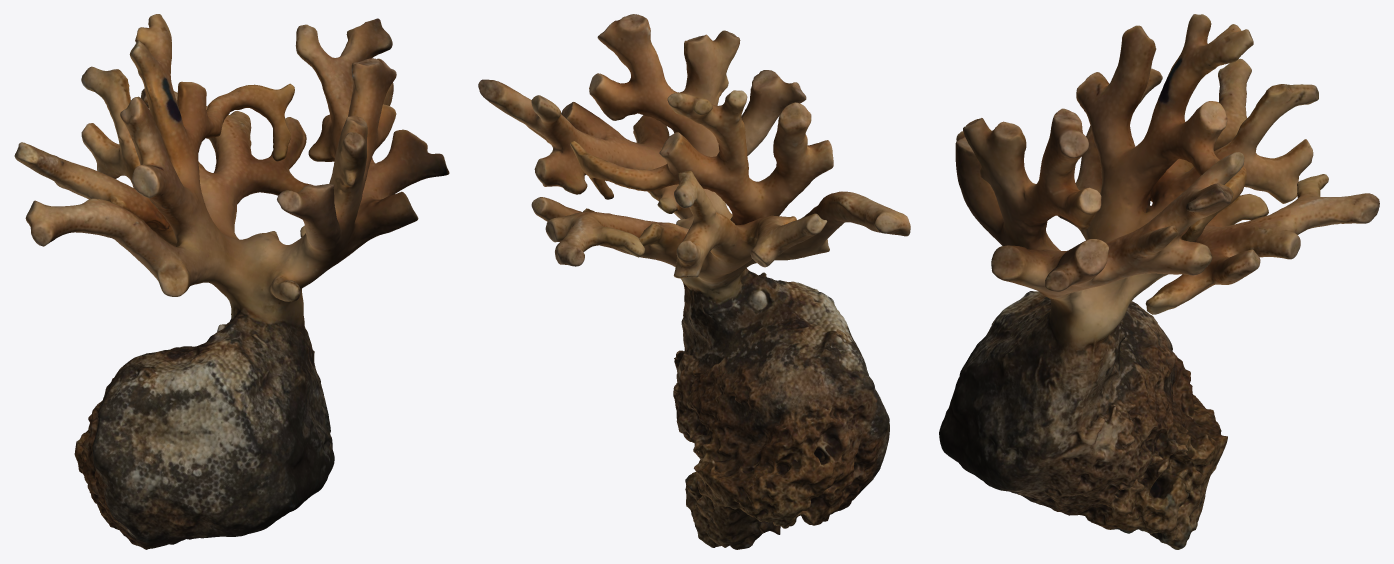
File: coral1.glb
3 views of the same model, side by side, from view 1: azimuth 30°, elevation 25°; view 2: azimuth 150°, elevation 25°; view 3: azimuth 270°, elevation 25° (orthographic). The views are drawn at different scales.
Bounding box in the file's own units: 0.0593 × 0.0697 × 0.0533.
Materials: 1 (1 with a texture image).
